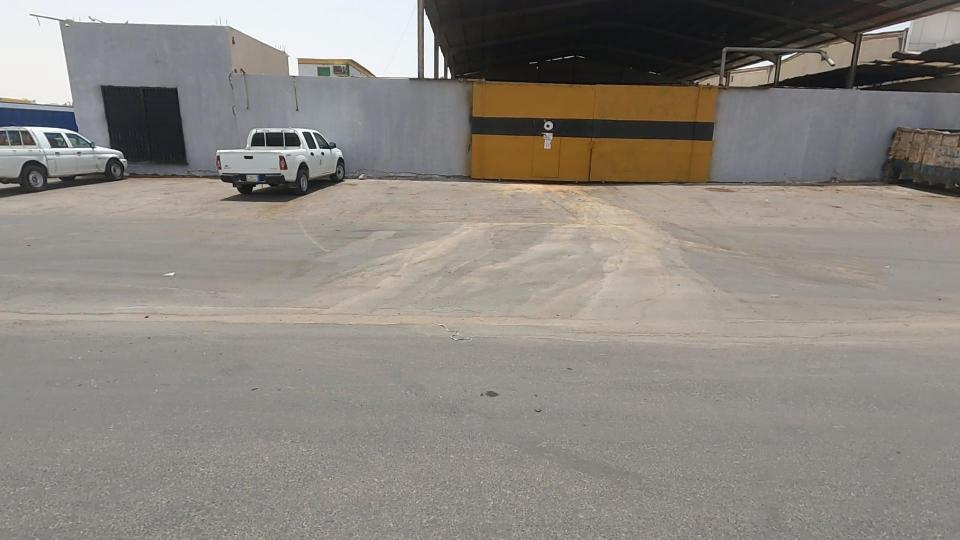POTHOLES: (113, 275, 380, 364), (296, 278, 480, 363)
